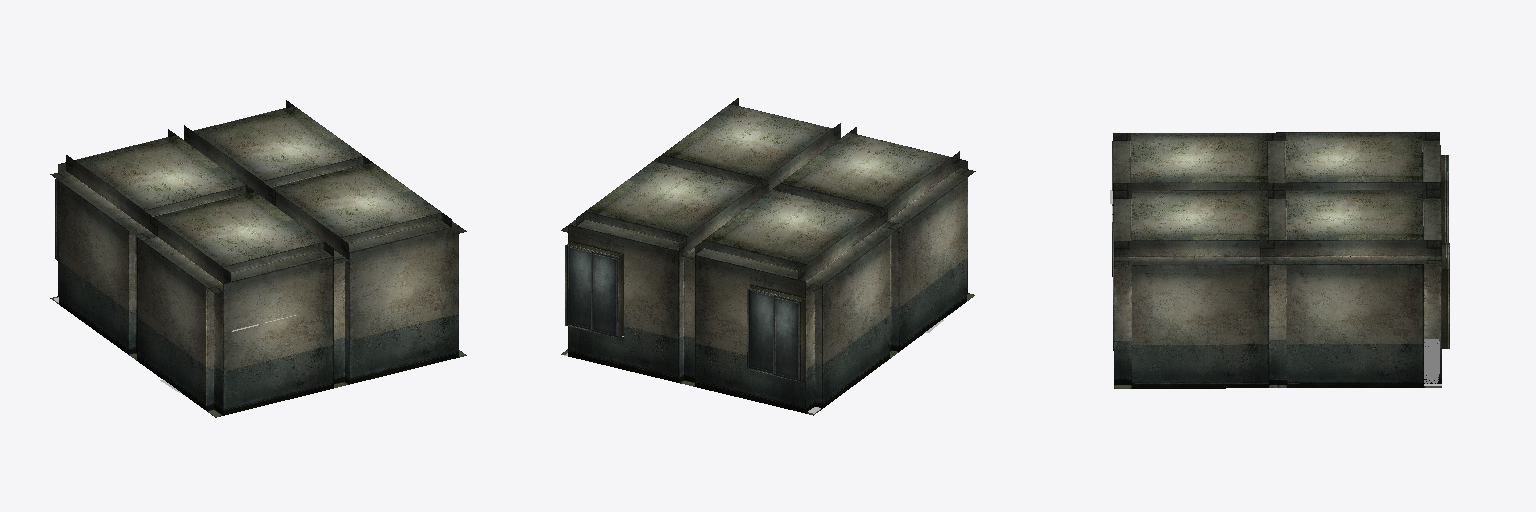
The picture shows the model from 3 angles: view 1: azimuth 30°, elevation 25°; view 2: azimuth 150°, elevation 25°; view 3: azimuth 270°, elevation 25°; orthographic projection.
Bounding box in the file's own units: 7.8 × 4.08 × 8.97.
12 materials, 7 textured.